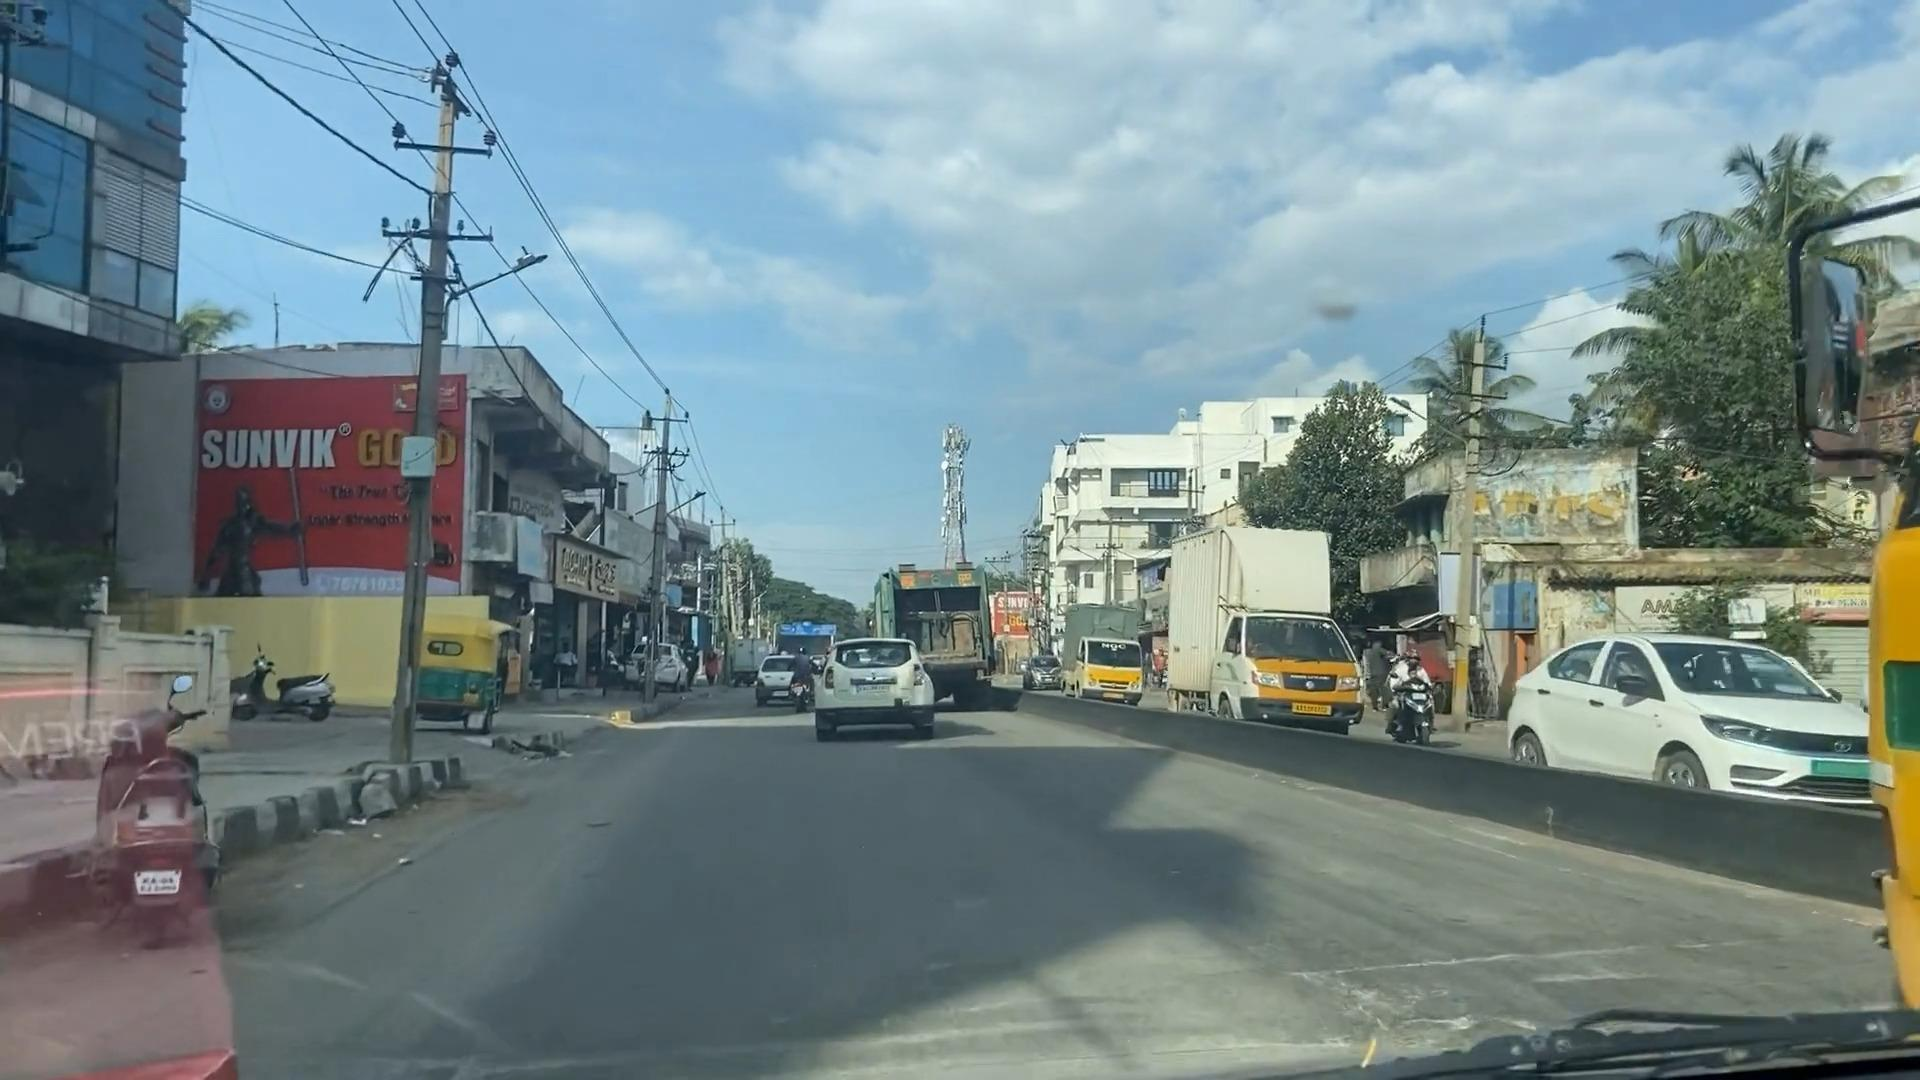LMV: (818, 636, 938, 745)
RoadDamages: (616, 926, 1753, 1060), (274, 947, 551, 1080)
